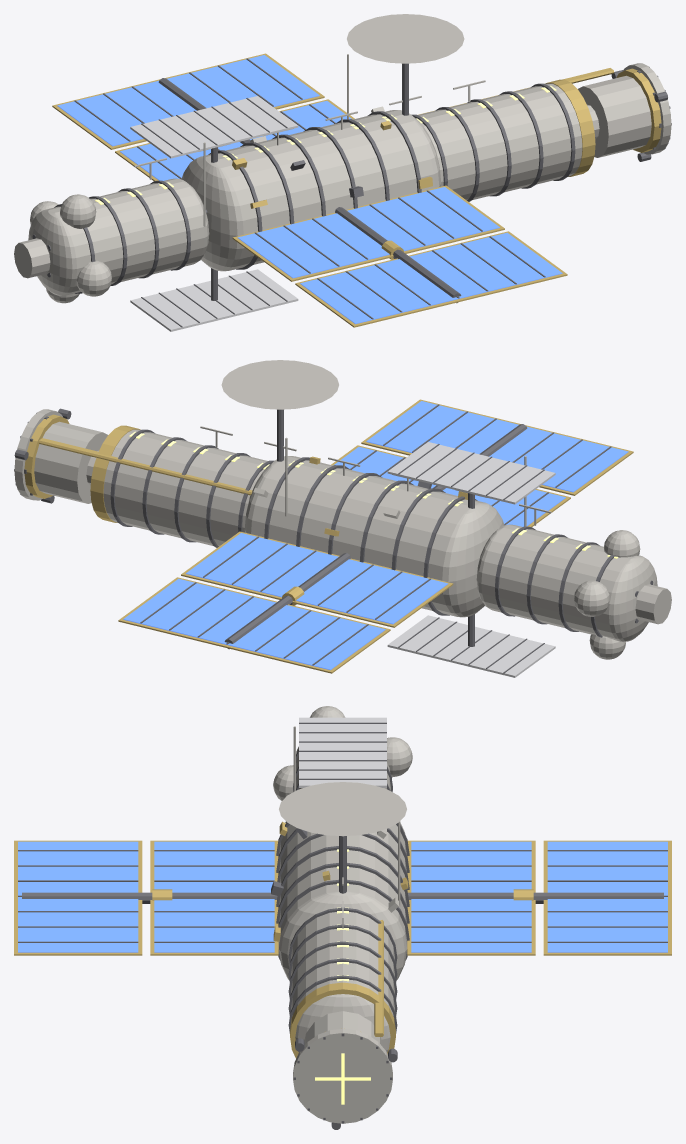
Rendered from station.glb.
3 views of the same model, one above another, from view 1: azimuth 30°, elevation 25°; view 2: azimuth 150°, elevation 25°; view 3: azimuth 270°, elevation 25° (orthographic). The views are drawn at different scales.
Visible parts, largest first — view 1: hab_core, hab_fwd, panel_-1_1, panel_-1_0, hab_aft, panel_1_1, rad_1, rad_-1, dish, dock_node, hab_core_cap-1, panel_1_0 (+24 smaller); view 2: hab_core, hab_fwd, panel_1_1, panel_1_0, hab_aft, panel_-1_1, rad_1, rad_-1, dish, hab_core_cap-1, dock_node, panel_-1_0 (+25 smaller); view 3: panel_-1_1, panel_1_1, panel_1_0, panel_-1_0, dock_collar, hab_core, hab_fwd, rad_1, dish, hab_core_cap1, hab_fwd_cap1, pframe_-1_1 (+11 smaller).
Boxes of the visible parts, x1,y1,x2,y2 form: hab_core: [200, 110, 434, 270]; hab_fwd: [418, 83, 582, 200]; panel_-1_1: [300, 232, 562, 324]; panel_-1_0: [237, 187, 499, 278]; hab_aft: [45, 179, 204, 295]; panel_1_1: [57, 55, 319, 146]; rad_1: [130, 96, 298, 158]; rad_-1: [130, 269, 298, 331]; dish: [347, 14, 464, 63]; dock_node: [578, 75, 651, 157]; hab_core_cap-1: [181, 156, 243, 271]; panel_1_0: [120, 101, 352, 180]; hab_core: [251, 456, 485, 616]; hab_fwd: [103, 429, 267, 546]; panel_1_1: [123, 578, 385, 670]; panel_1_0: [186, 533, 448, 624]; hab_aft: [481, 525, 640, 641]; panel_-1_1: [366, 401, 628, 492]; rad_1: [387, 442, 555, 504]; rad_-1: [387, 615, 555, 677]; dish: [221, 360, 338, 409]; hab_core_cap-1: [442, 502, 504, 617]; dock_node: [34, 421, 107, 503]; panel_-1_0: [333, 447, 565, 526]; panel_-1_1: [18, 841, 138, 952]; panel_1_1: [547, 841, 667, 952]; panel_1_0: [411, 841, 531, 952]; panel_-1_0: [154, 841, 274, 952]; dock_collar: [293, 1028, 392, 1123]; hab_core: [278, 821, 407, 948]; hab_fwd: [291, 912, 394, 1016]; rad_1: [299, 717, 386, 787]; dish: [279, 782, 406, 836]; hab_core_cap1: [279, 891, 406, 980]; hab_fwd_cap1: [295, 994, 390, 1052]; pframe_-1_1: [14, 840, 142, 955].
Size of the model in its own units: 19.67 by 6.48 by 16.4.
